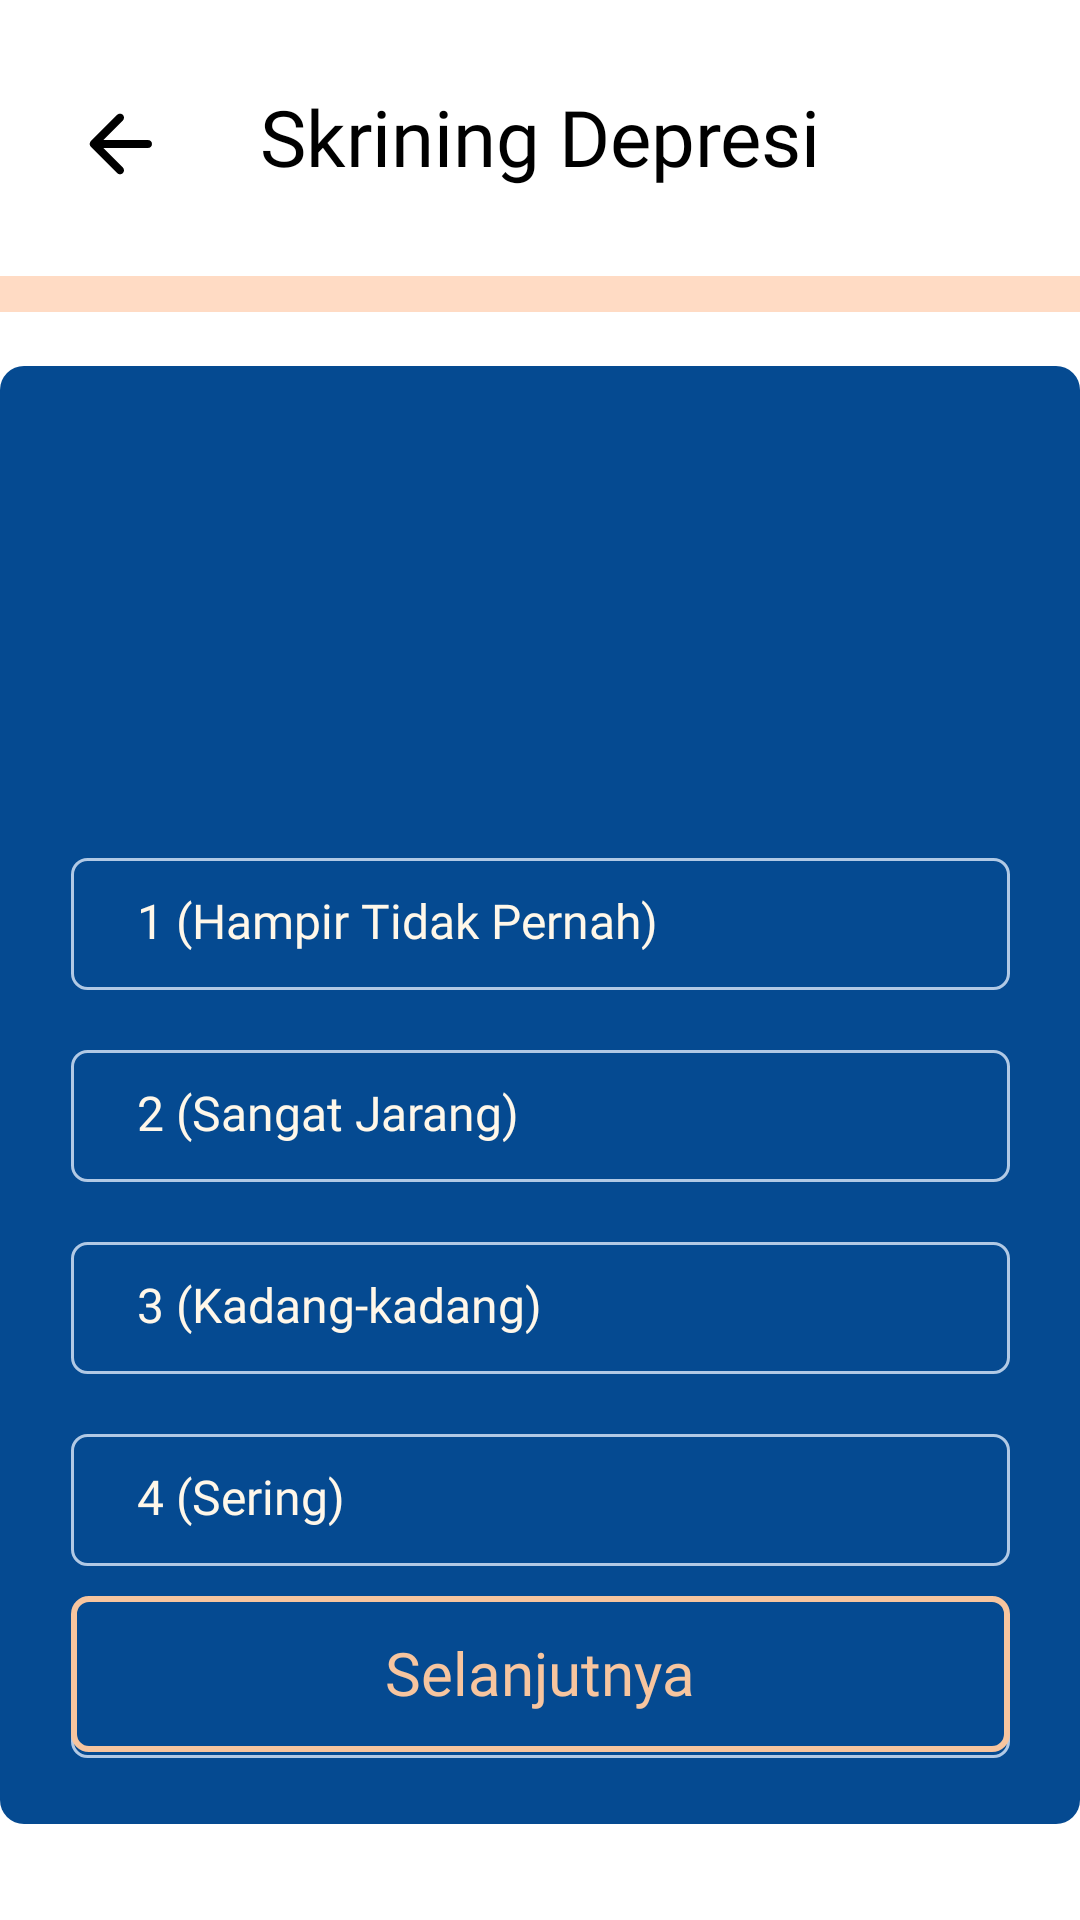

Icons on this 1080px x 1920px Android screen, each with its box as {"left": x1, "top": y1, "right": x2, "bottom": y2}:
arrow back: {"left": 89, "top": 113, "right": 152, "bottom": 175}
